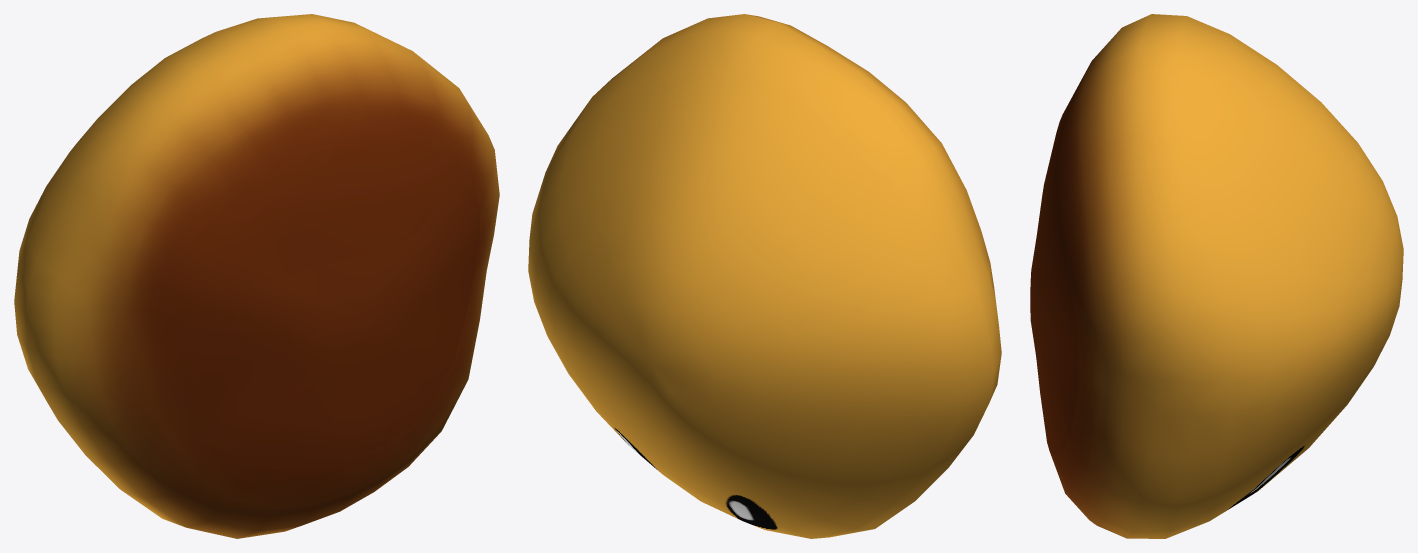
Rendered from octopus-top.dae.
The picture shows the model from 3 angles, left to right: view 1: azimuth 30°, elevation 25°; view 2: azimuth 150°, elevation 25°; view 3: azimuth 270°, elevation 25°; orthographic projection.
Parts seen in each view (by area): view 1: octopus-top; view 2: octopus-top; view 3: octopus-top.
Boxes of the visible parts, x1,y1,x2,y2 form: octopus-top: (14,14,499,538); octopus-top: (528,14,1001,538); octopus-top: (1030,14,1403,538).
Size of the model in its own units: 4.85 by 3.42 by 5.05.
1 material, 1 textured.
